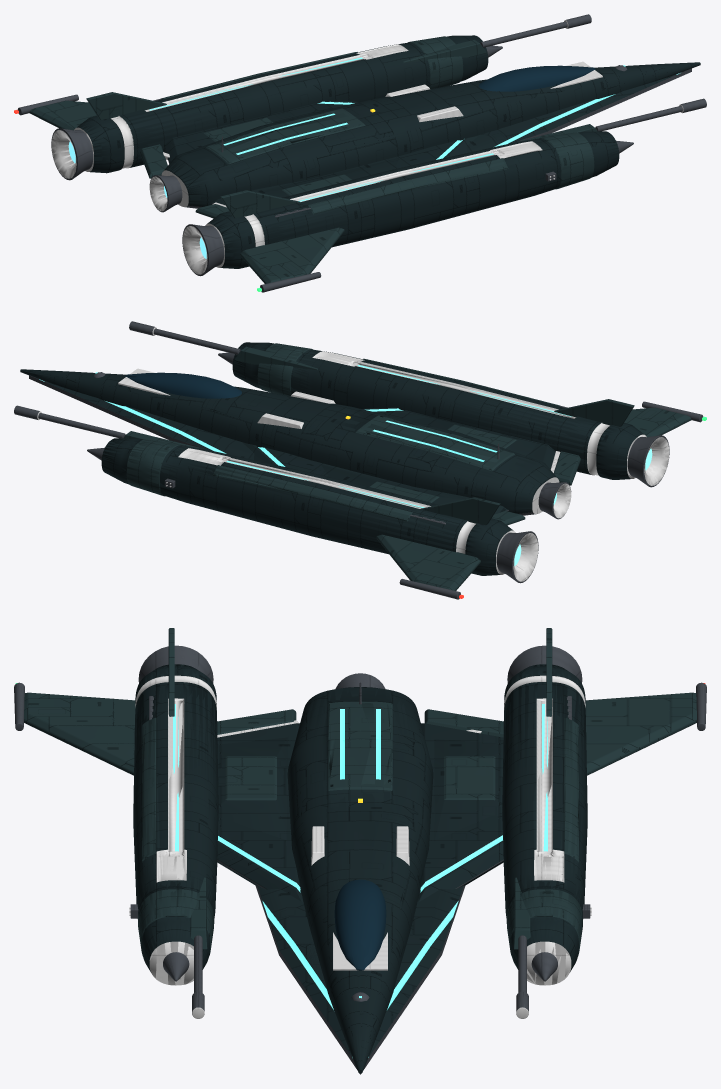
File: wasp_free_militia.glb
3 renders of one model, top to bottom at view 1: azimuth 30°, elevation 25°; view 2: azimuth 150°, elevation 25°; view 3: azimuth 270°, elevation 25°, orthographic. The views are drawn at different scales.
Parts seen in each view (by area): view 1: LOD0_Hull, LOD2_Hull, LOD1_Hull, LOD0_Armor, LOD0_Mechanical, LOD1_Armor, LOD0_MechanicalDark, LOD2_Armor, LOD2_MechanicalDark, LOD1_MechanicalDark, LOD1_Mechanical, LOD0_CANOPY (+6 smaller); view 2: LOD0_Hull, LOD2_Hull, LOD1_Hull, LOD0_Armor, LOD0_Mechanical, LOD1_Armor, LOD0_MechanicalDark, LOD2_Armor, LOD2_MechanicalDark, LOD1_MechanicalDark, LOD1_Mechanical, LOD0_CANOPY (+5 smaller); view 3: LOD0_Hull, LOD2_Hull, LOD0_Armor, LOD1_Hull, LOD1_Armor, LOD0_Mechanical, LOD0_MechanicalDark, LOD2_Armor, LOD1_MechanicalDark, LOD2_MechanicalDark, LOD0_CANOPY, LOD1_Mechanical (+5 smaller).
Boxes of the visible parts, <box> form: LOD0_Hull: <box>78,35,700,268</box>; LOD2_Hull: <box>77,35,700,268</box>; LOD1_Hull: <box>77,36,698,268</box>; LOD0_Armor: <box>29,36,596,283</box>; LOD0_Mechanical: <box>19,14,706,292</box>; LOD1_Armor: <box>30,37,597,283</box>; LOD0_MechanicalDark: <box>51,20,683,274</box>; LOD2_Armor: <box>68,36,594,279</box>; LOD2_MechanicalDark: <box>51,45,683,274</box>; LOD1_MechanicalDark: <box>52,20,682,271</box>; LOD1_Mechanical: <box>18,15,706,292</box>; LOD0_CANOPY: <box>479,66,595,91</box>; LOD0_Hull: <box>20,342,644,575</box>; LOD2_Hull: <box>21,342,643,575</box>; LOD1_Hull: <box>23,342,642,575</box>; LOD0_Armor: <box>123,343,691,590</box>; LOD0_Mechanical: <box>14,321,702,599</box>; LOD1_Armor: <box>125,345,691,590</box>; LOD0_MechanicalDark: <box>37,327,669,581</box>; LOD2_Armor: <box>126,343,684,587</box>; LOD2_MechanicalDark: <box>37,334,669,581</box>; LOD1_MechanicalDark: <box>37,327,668,571</box>; LOD1_Mechanical: <box>14,321,702,599</box>; LOD0_CANOPY: <box>126,372,239,398</box>; LOD0_Hull: <box>133,664,587,1073</box>; LOD2_Hull: <box>133,664,587,1070</box>; LOD0_Armor: <box>24,628,696,956</box>; LOD1_Hull: <box>133,664,587,1069</box>; LOD1_Armor: <box>24,628,696,956</box>; LOD0_Mechanical: <box>14,645,706,1074</box>; LOD0_MechanicalDark: <box>129,675,591,1018</box>; LOD2_Armor: <box>24,635,696,954</box>; LOD1_MechanicalDark: <box>129,676,591,1018</box>; LOD2_MechanicalDark: <box>135,676,585,1018</box>; LOD0_CANOPY: <box>334,879,386,970</box>; LOD1_Mechanical: <box>16,646,705,1010</box>.
Size of what is drawn, in the model's own units: 21.62 by 2.65 by 16.16.
Materials: 10 (4 with a texture image).
